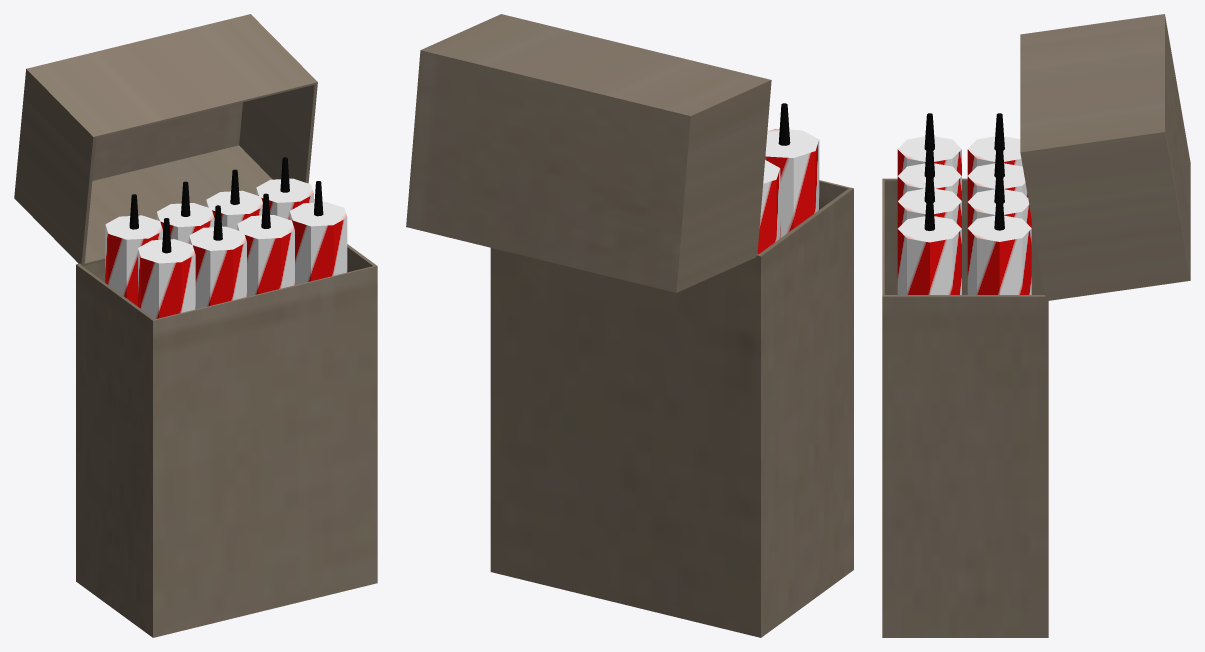
Rendered from CandleBox.fbx.
The picture shows the model from 3 angles, left to right: view 1: azimuth 30°, elevation 25°; view 2: azimuth 150°, elevation 25°; view 3: azimuth 270°, elevation 25°; orthographic projection. The views are drawn at different scales.
Parts seen in each view (by area): view 1: CandleBox; view 2: CandleBox; view 3: CandleBox.
Boxes of the visible parts, x1,y1,x2,y2 form: CandleBox: (14,14,377,637); CandleBox: (406,14,853,637); CandleBox: (882,14,1190,637).
Bounding box in the file's own units: 204 × 402 × 221.
